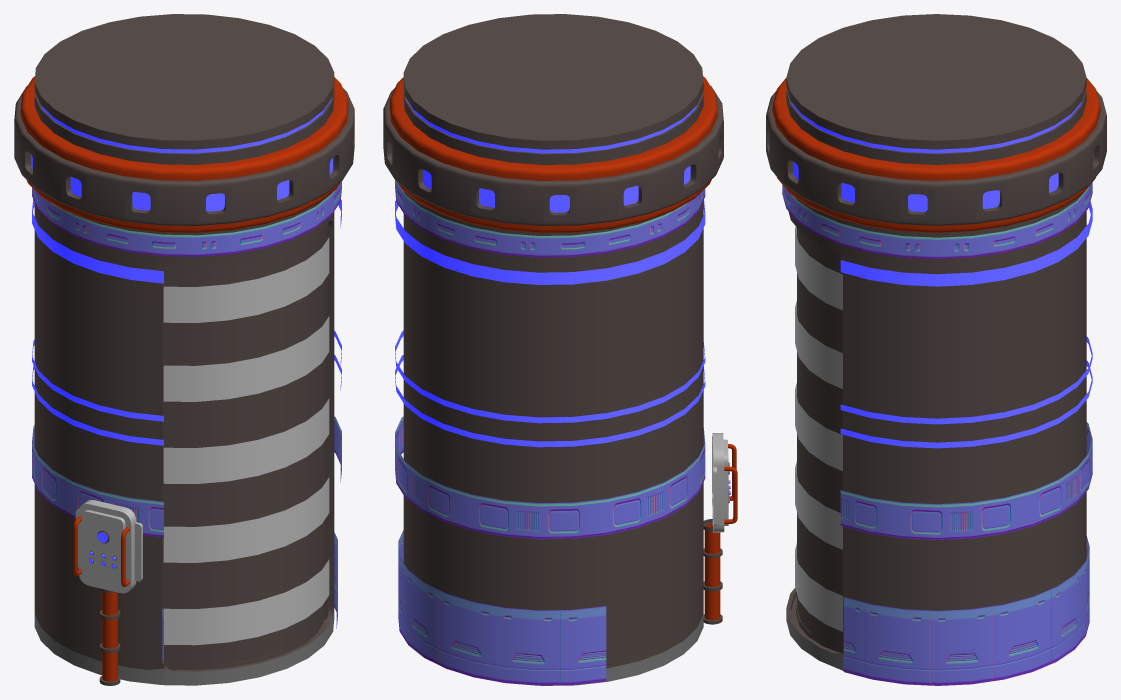
The model's file is S_Spawner.fbx.
The picture shows the model from 3 angles, left to right: view 1: azimuth 30°, elevation 25°; view 2: azimuth 150°, elevation 25°; view 3: azimuth 270°, elevation 25°; orthographic projection.
Parts seen in each view (by area): view 1: S_Spawner_principal, S_Spawner_door, S_Spawner_command; view 2: S_Spawner_principal, S_Spawner_command; view 3: S_Spawner_principal, S_Spawner_door.
Part boxes in pixels (left/top/right/bottom): S_Spawner_principal: left=14, top=14, right=354, bottom=685; S_Spawner_door: left=163, top=228, right=329, bottom=670; S_Spawner_command: left=73, top=500, right=142, bottom=685; S_Spawner_principal: left=383, top=14, right=723, bottom=685; S_Spawner_command: left=703, top=433, right=737, bottom=624; S_Spawner_principal: left=766, top=14, right=1106, bottom=685; S_Spawner_door: left=795, top=226, right=842, bottom=652.
Size of what is drawn, in the model's own units: 227 by 400 by 227.
